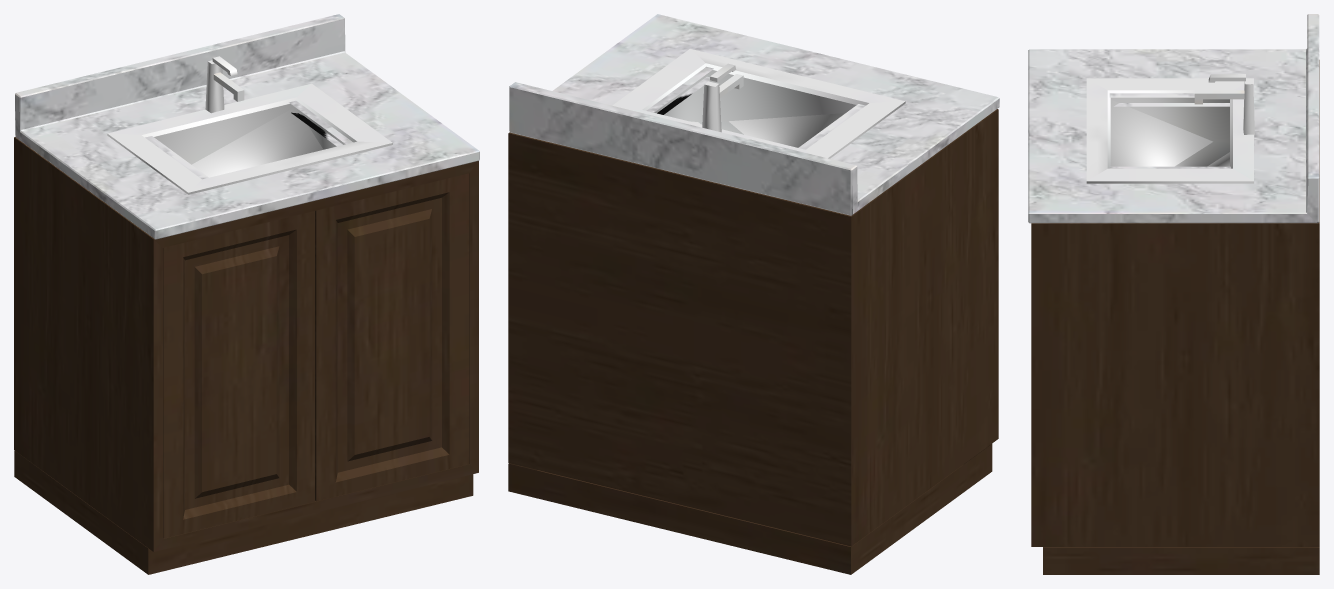
Rendered from kitchen-cabinet-sink.glb.
The picture shows the model from 3 angles, left to right: view 1: azimuth 30°, elevation 25°; view 2: azimuth 150°, elevation 25°; view 3: azimuth 270°, elevation 25°; orthographic projection. The views are drawn at different scales.
Parts seen in each view (by area): view 1: kitchen3:pCube2_0; view 2: kitchen3:pCube2_0; view 3: kitchen3:pCube2_0.
Part boxes in pixels (box(x1,y1,x2,y2)): kitchen3:pCube2_0: box(14, 14, 479, 574); kitchen3:pCube2_0: box(508, 14, 999, 574); kitchen3:pCube2_0: box(1028, 14, 1319, 574).
Size of the model in its own units: 0.7488 by 0.8917 by 0.5624.
1 material, 1 textured.
